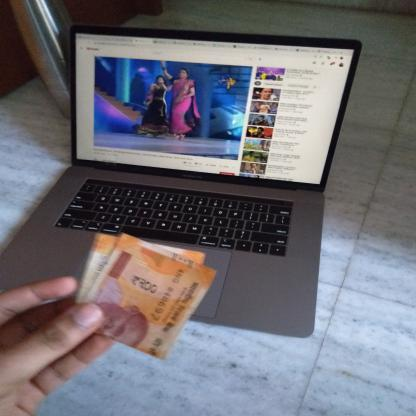New200Front: (87, 242, 197, 350)
